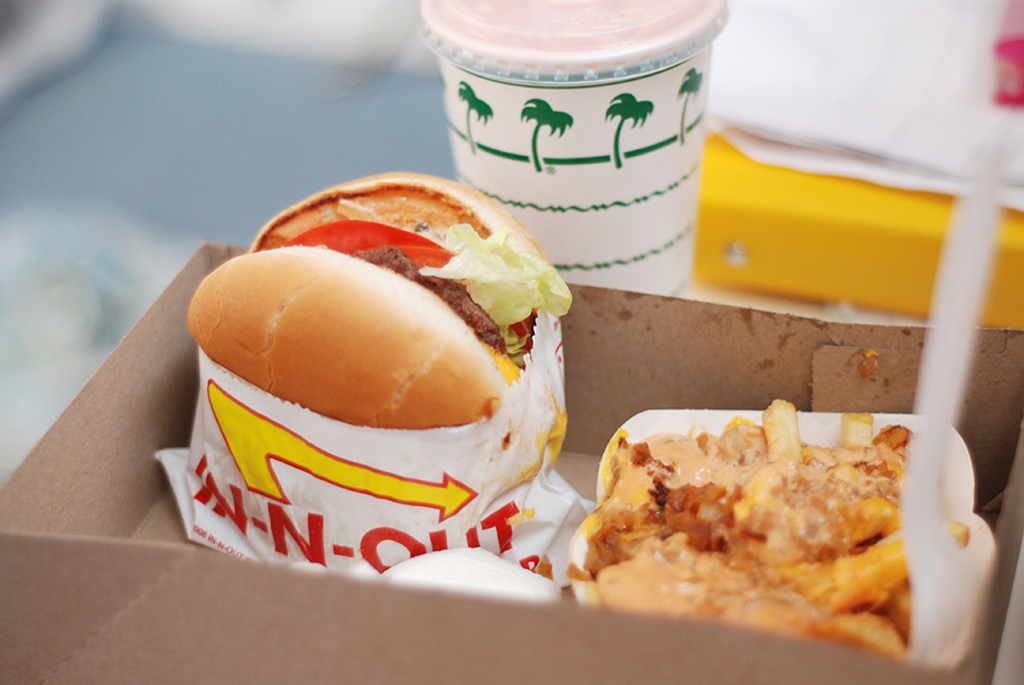Hamburger: (187, 171, 573, 431)
